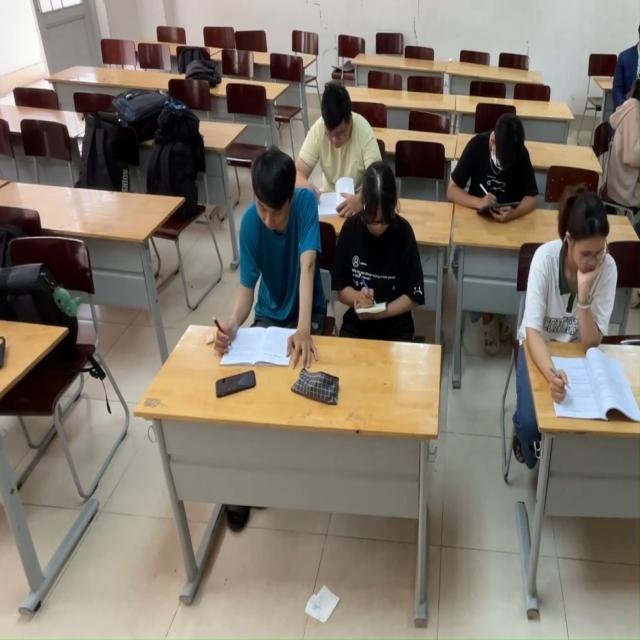read: (211, 143, 327, 370), (529, 201, 622, 432), (333, 194, 426, 339), (454, 106, 551, 233)
